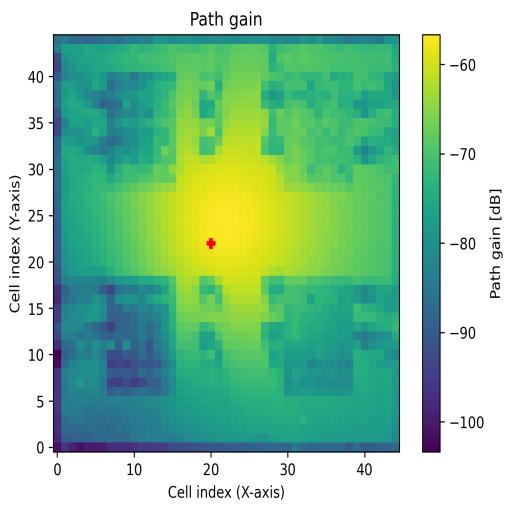Concrete: (285, 72, 353, 182)
Glass: (107, 71, 176, 183)
Metal: (284, 276, 354, 396)
Wood: (106, 276, 176, 398)
